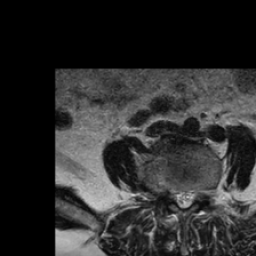CCS_normal: (179, 183, 187, 216)
LFS_stenosis: (195, 183, 204, 205)
LLS_normal: (187, 183, 195, 209)
RFS_severe_stenosis: (162, 180, 171, 205)
RLS_normal: (171, 183, 179, 209)
